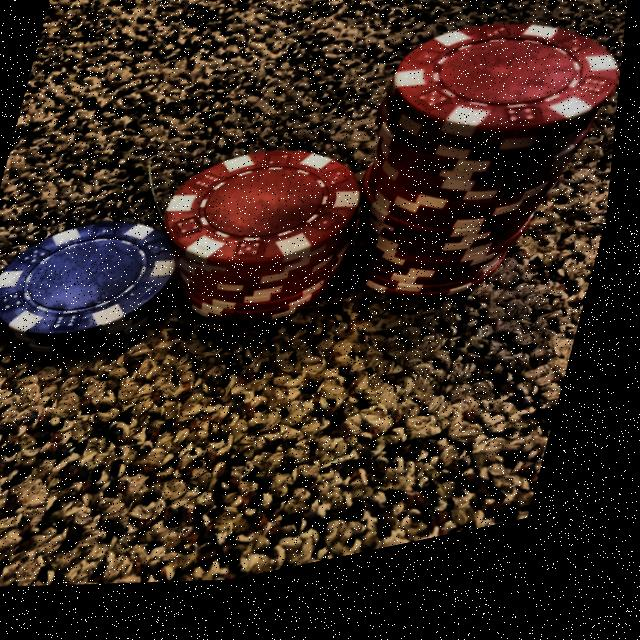Chip: (332, 5, 632, 363), (134, 125, 383, 372), (0, 191, 202, 391)
